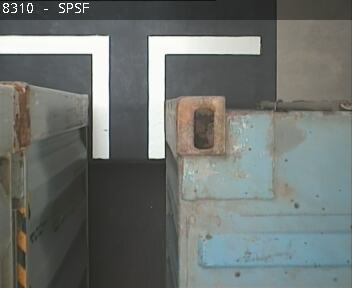groundmarker_1: (1, 33, 261, 160)
